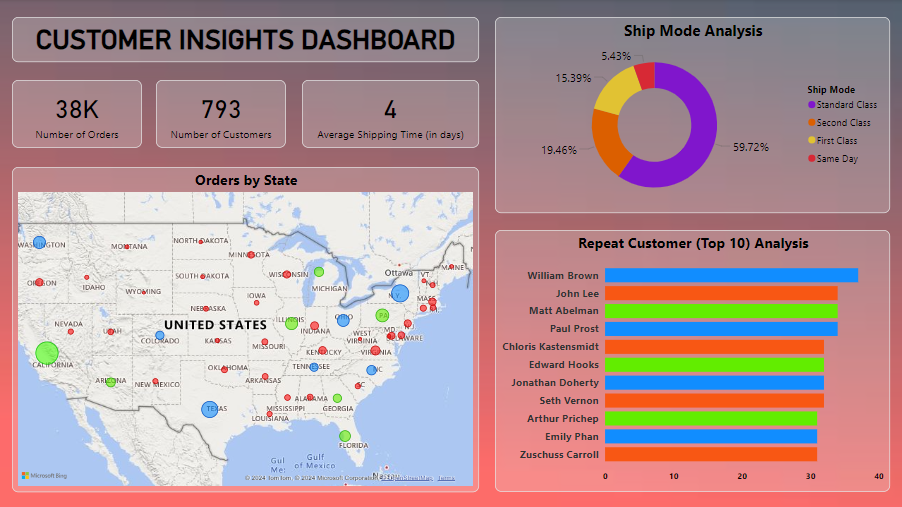

The page's visual inventory and layout, read from the dashboard file:
{"tool":"powerbi","page":{"name":"customer insights","canvas":[1280,720],"ordinal":1},"visuals":[{"type":"card","fields":{"Values":["Orders.Quantity"]},"box":[17,114.8,184.3,96.4],"z":0},{"type":"map","fields":{"Size":["Orders.Quantity"],"Category":["Orders.State"]},"box":[17,238.1,661.9,460.6],"z":1000},{"type":"barChart","title":"Repeat Customer (Top 10) Analysis ","fields":{"Category":["Orders.Customer Name"],"Y":["Orders.Customer ID"]},"box":[701.6,327.4,559.8,371.3],"z":2000},{"type":"card","fields":{"Values":["Orders.Shipping Time"]},"box":[428,114.8,250.9,96.4],"z":3000},{"type":"textbox","box":[17,25.5,661.9,63.8],"z":4000},{"type":"card","fields":{"Values":["Orders.Customer ID"]},"box":[221.1,114.8,184.3,96.4],"z":5000},{"type":"donutChart","title":"Ship Mode Analysis","fields":{"Category":["Orders.Ship Mode"],"Y":["Orders.Ship Mode"]},"box":[701.6,25.5,559.8,277.8],"z":6000}]}

Visuals, with their boxes in screenshot pixels (x1, y1, x2, y2), scaled from the page's 1280x720 canvas onto the 902x507 screenshot:
card - Orders.Quantity: box=[12, 81, 142, 149]
map - Orders.Quantity x Orders.State: box=[12, 168, 478, 492]
"Repeat Customer (Top 10) Analysis " barChart: box=[494, 231, 889, 492]
card - Orders.Shipping Time: box=[302, 81, 478, 149]
textbox: box=[12, 18, 478, 63]
card - Orders.Customer ID: box=[156, 81, 286, 149]
"Ship Mode Analysis" donutChart: box=[494, 18, 889, 214]
